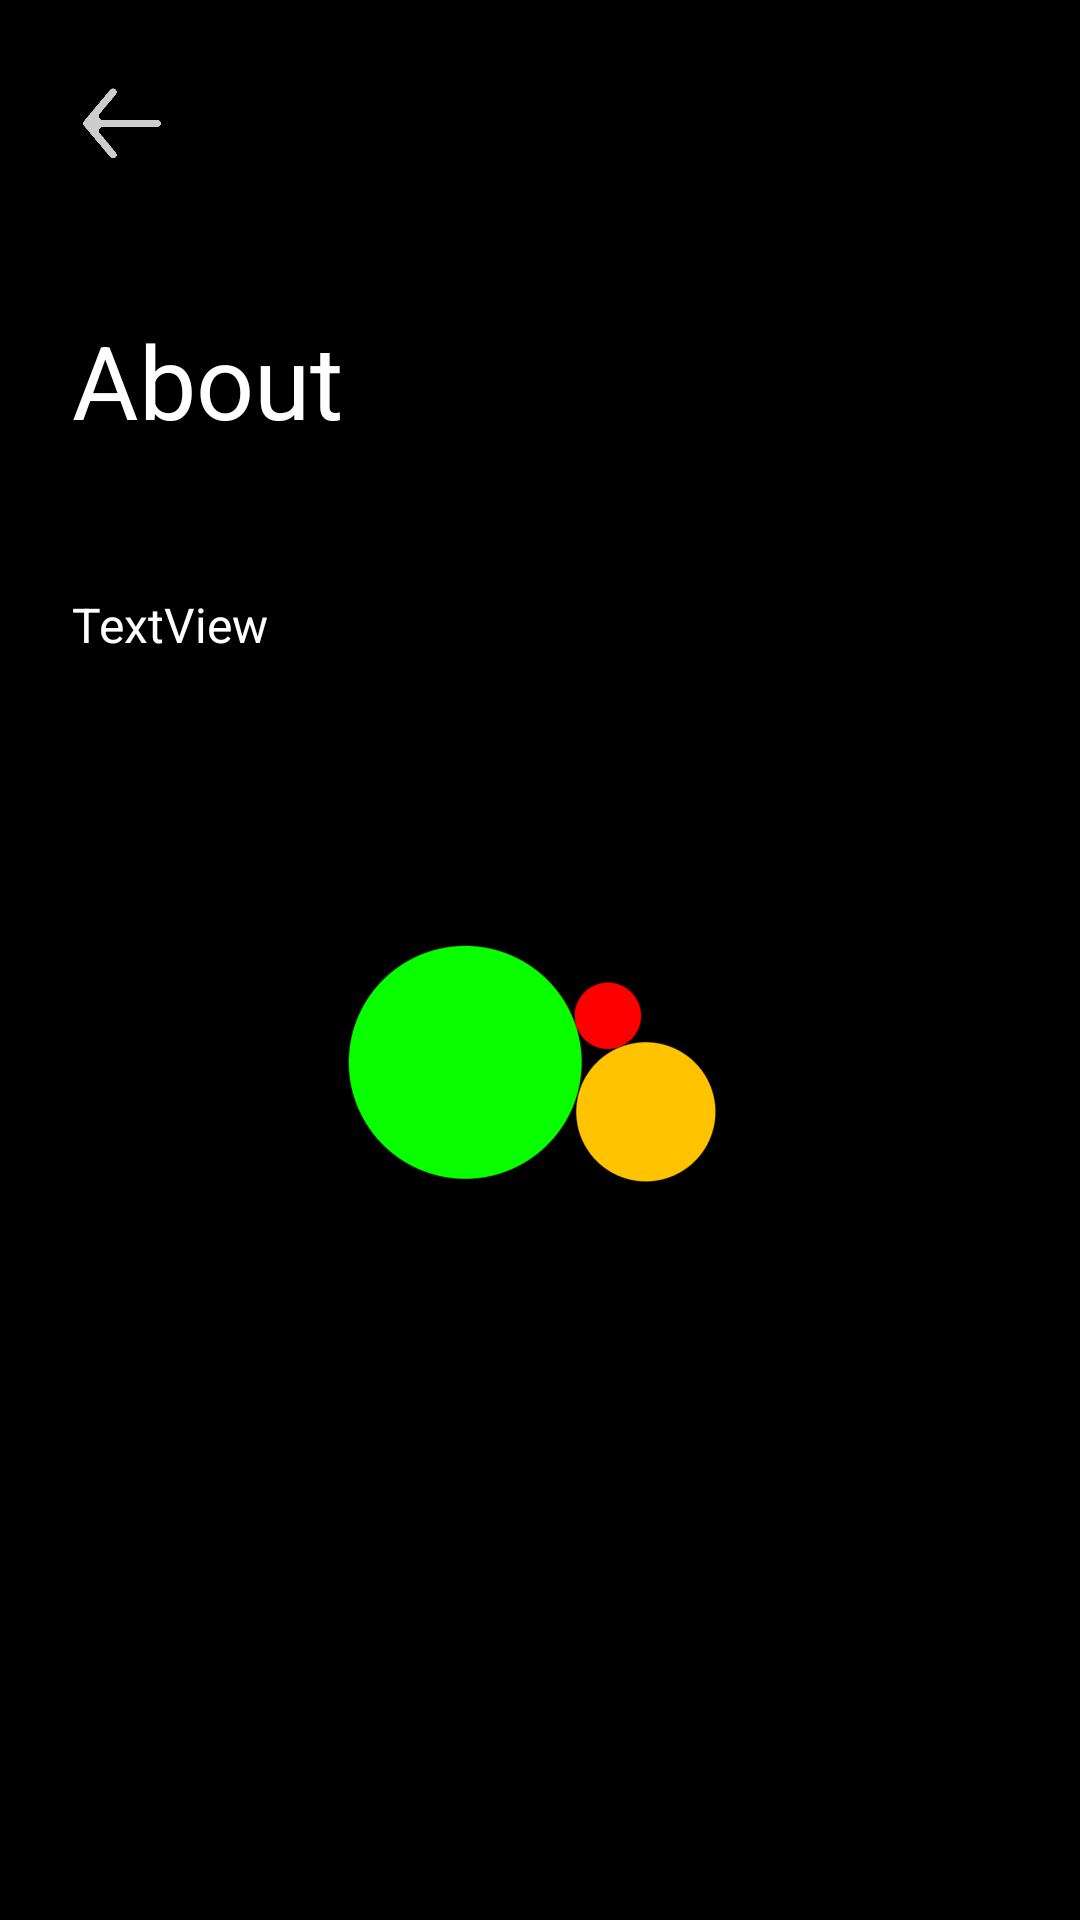

Locate icon controls on the screen. Image size 1080*1920, boxes as (x1, y1, x2, y2).
back button: (83, 88, 161, 158)
